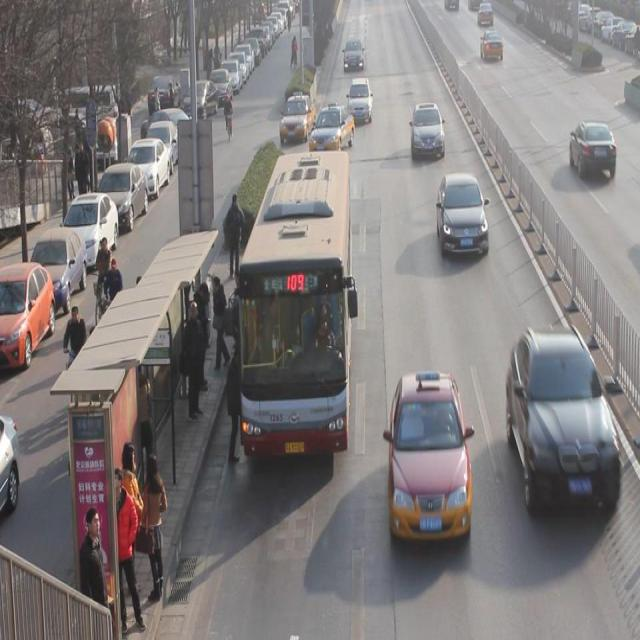car: (506, 326, 621, 511), (388, 374, 472, 543), (436, 171, 489, 257), (570, 117, 617, 179), (309, 100, 355, 152), (410, 101, 444, 157), (279, 93, 317, 143), (348, 76, 372, 122), (479, 28, 504, 61), (343, 40, 365, 69)
van: (238, 153, 350, 454)
